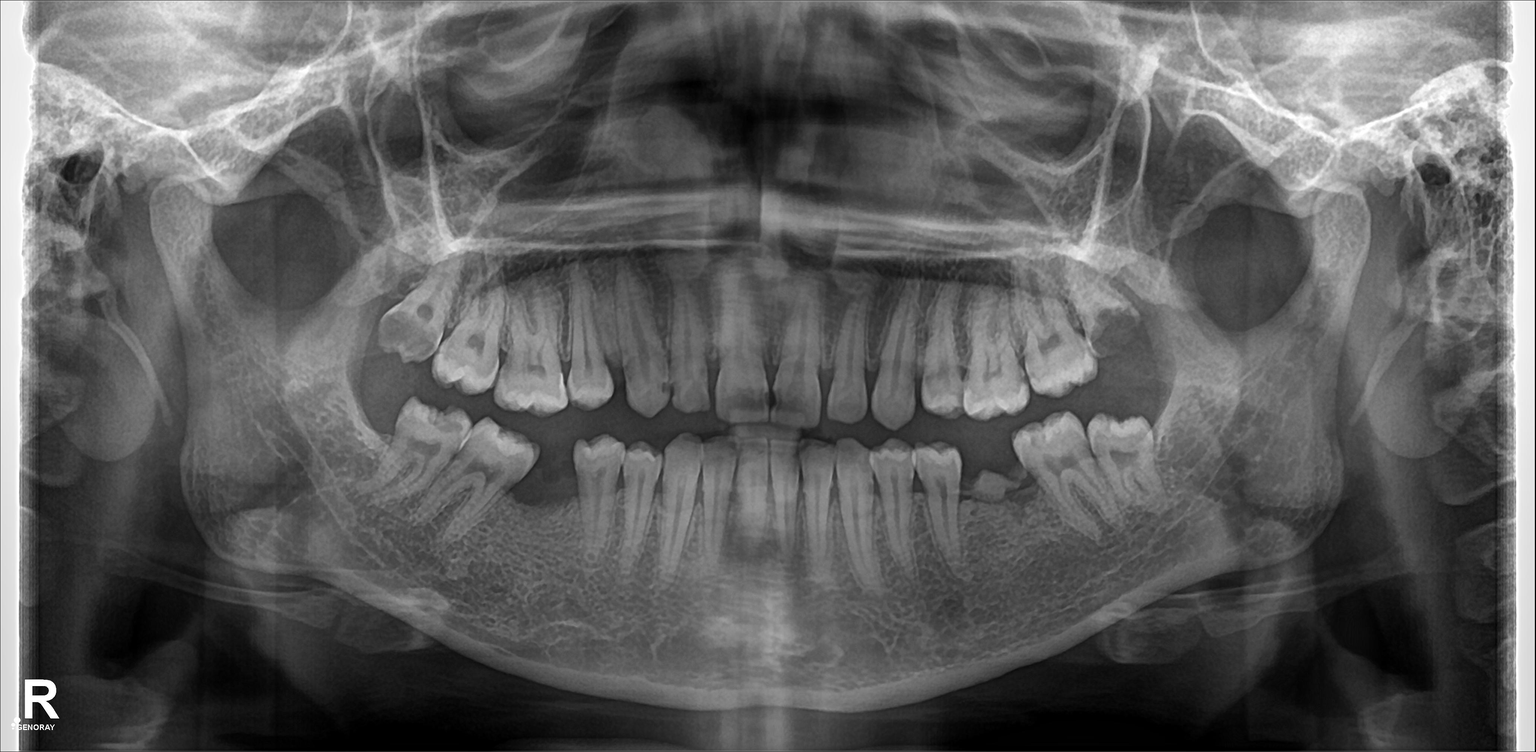Dental Caries: (378, 315, 438, 359), (1088, 307, 1141, 353)
Missing Tooth: (1080, 266, 1164, 381), (350, 361, 396, 447), (536, 447, 578, 533)
Retained Root: (959, 449, 1022, 530)
